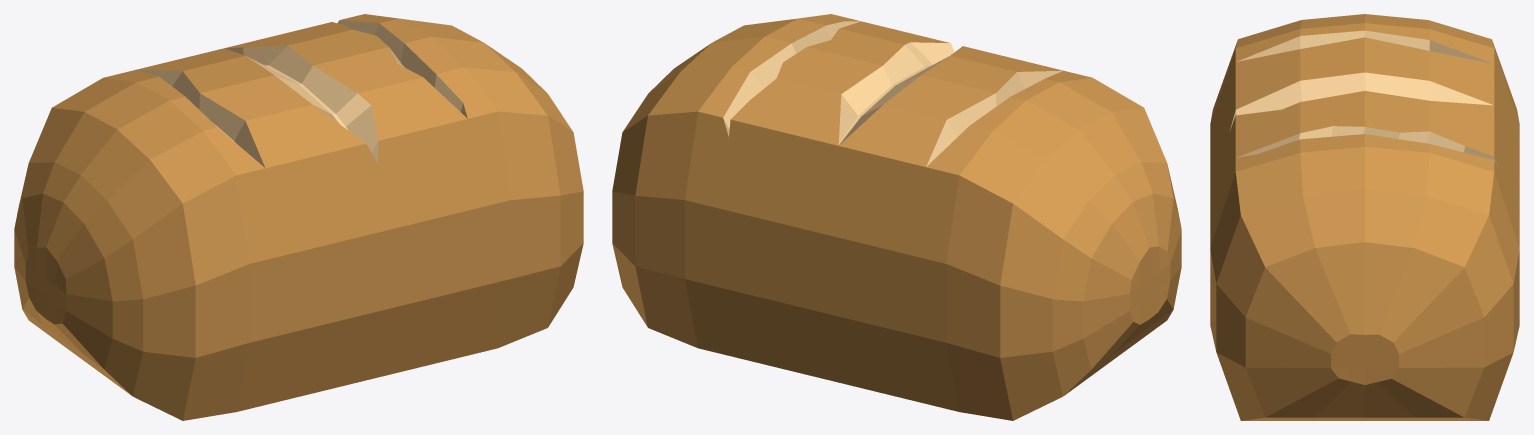
Rendered from Bread.glb.
3 renders of one model, left to right at view 1: azimuth 30°, elevation 25°; view 2: azimuth 150°, elevation 25°; view 3: azimuth 270°, elevation 25°, orthographic. The views are drawn at different scales.
Visible parts, largest first — view 1: Pain; view 2: Pain; view 3: Pain.
Part boxes in pixels (x1,y1,x2,y2): Pain: (14,14,583,420); Pain: (612,14,1181,420); Pain: (1210,14,1519,420).
Size of the model in its own units: 0.2798 by 0.1382 by 0.1523.
